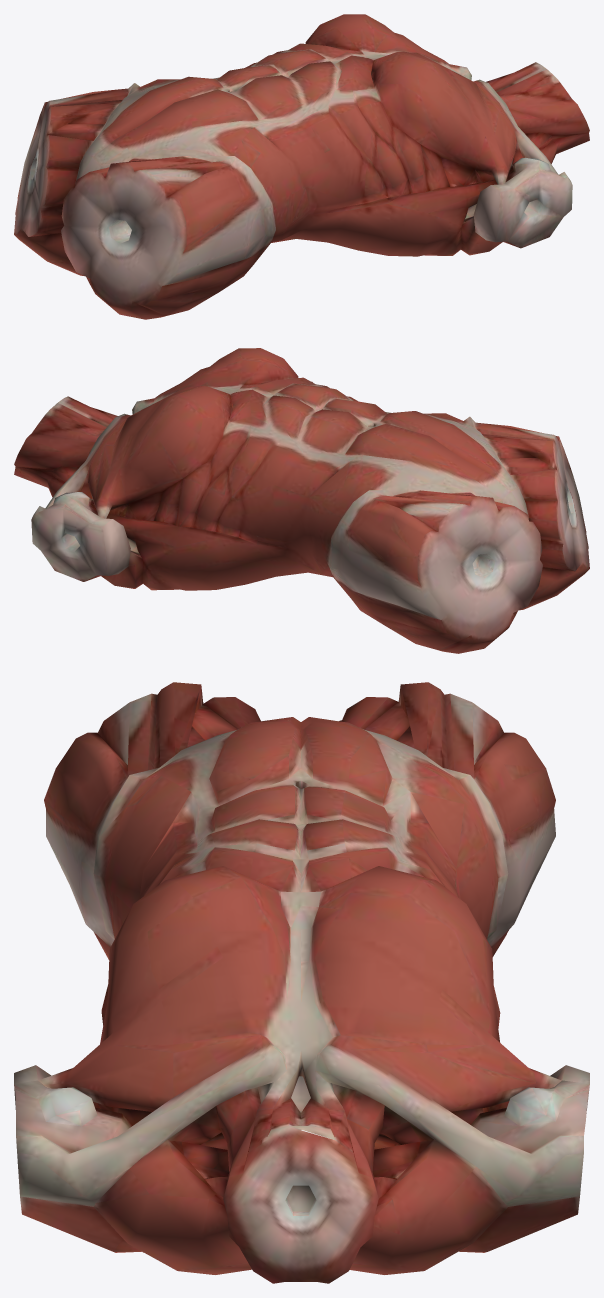
The model's file is torso-muscle.glb.
3 renders of one model, top to bottom at view 1: azimuth 30°, elevation 25°; view 2: azimuth 150°, elevation 25°; view 3: azimuth 270°, elevation 25°, orthographic. The views are drawn at different scales.
Parts seen in each view (by area): view 1: tripo_node_d691305a-3d0d-4fce-80c4-ebf81; view 2: tripo_node_d691305a-3d0d-4fce-80c4-ebf81; view 3: tripo_node_d691305a-3d0d-4fce-80c4-ebf81.
Boxes of the visible parts, box(x1,y1,x2,y2) form: tripo_node_d691305a-3d0d-4fce-80c4-ebf81: box(14, 14, 589, 319); tripo_node_d691305a-3d0d-4fce-80c4-ebf81: box(14, 348, 589, 653); tripo_node_d691305a-3d0d-4fce-80c4-ebf81: box(14, 682, 589, 1283).
Size of the model in its own units: 0.112 by 0.0414 by 0.0633.
1 material, 1 textured.
